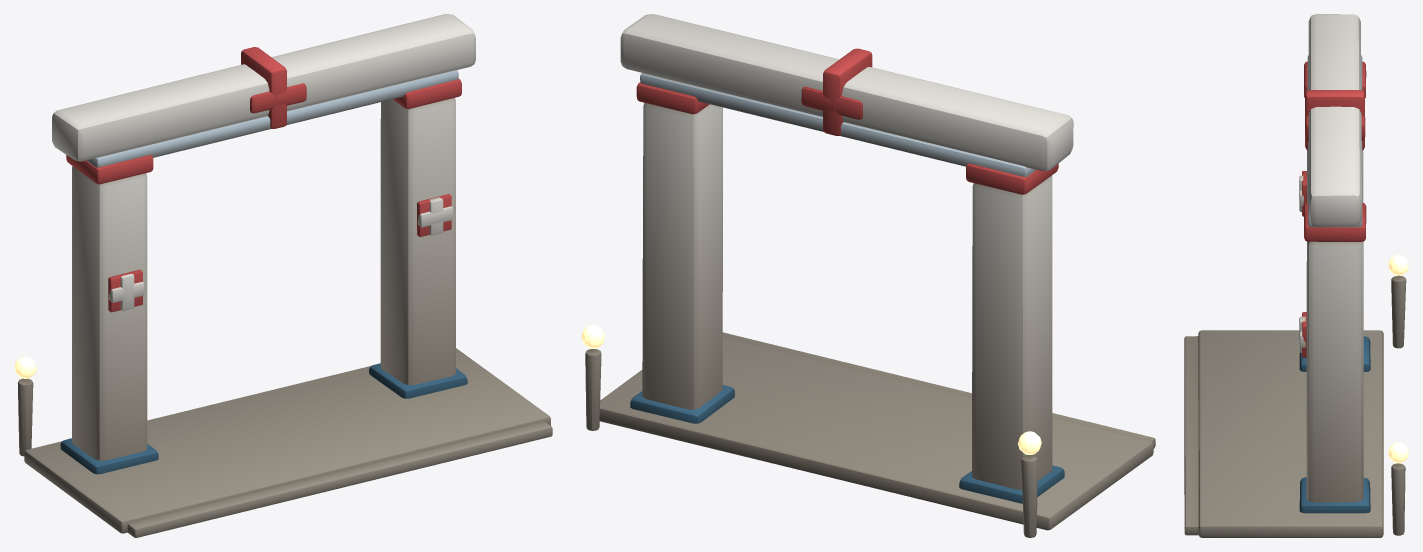
3 renders of one model, left to right at view 1: azimuth 30°, elevation 25°; view 2: azimuth 150°, elevation 25°; view 3: azimuth 270°, elevation 25°, orthographic. The views are drawn at different scales.
Visible parts, largest first — view 1: gate_d65f6c16; view 2: gate_d65f6c16; view 3: gate_d65f6c16.
Part boxes in pixels (left/top/right/bottom): gate_d65f6c16: left=14, top=14, right=552, bottom=537; gate_d65f6c16: left=581, top=14, right=1155, bottom=537; gate_d65f6c16: left=1184, top=14, right=1408, bottom=537.
Size of the model in its own units: 5.3 by 4.36 by 2.55.
